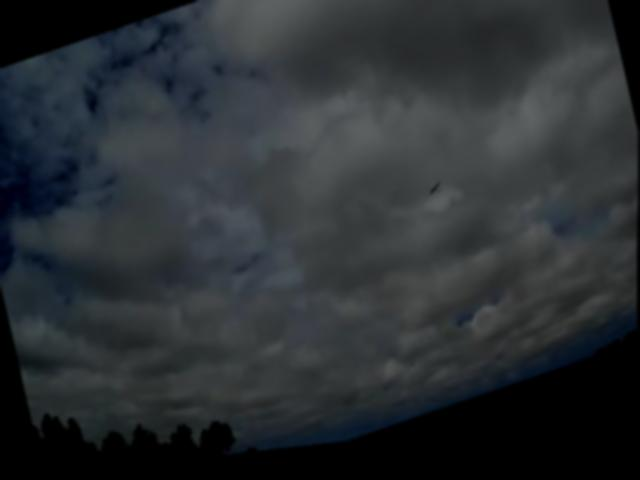uav: (420, 180, 453, 219)
